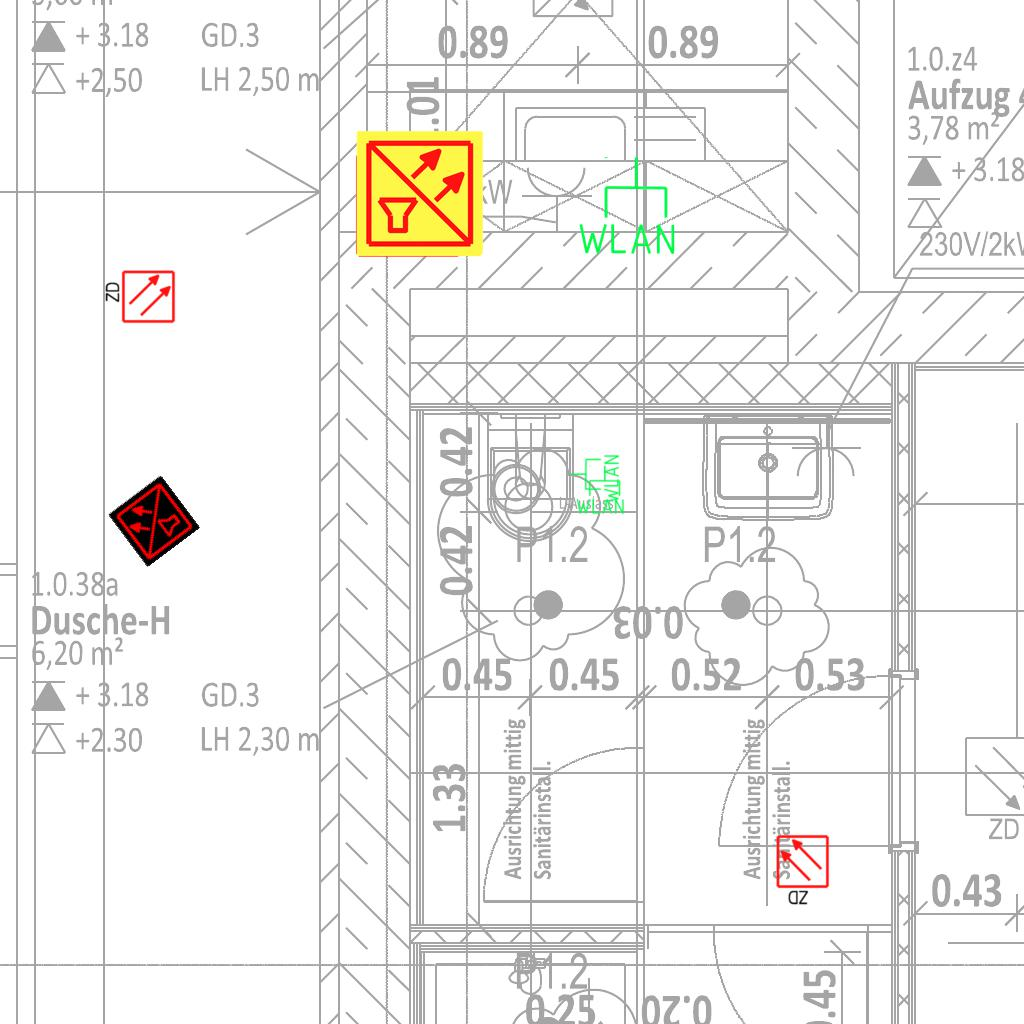OKW_Multisensormelder_(Kombination_optischer_Rauch-Kahlenmonoxid_Waerme-Melder): (354, 128, 486, 260), (107, 474, 201, 568)
WLAN: (574, 154, 679, 258), (569, 453, 621, 505), (574, 464, 626, 516)
ZD_Melder_in_Zwischendecke_mit_Revisionsoeffnung_mind_40_x_40_cm: (102, 269, 176, 326), (775, 834, 832, 908)
